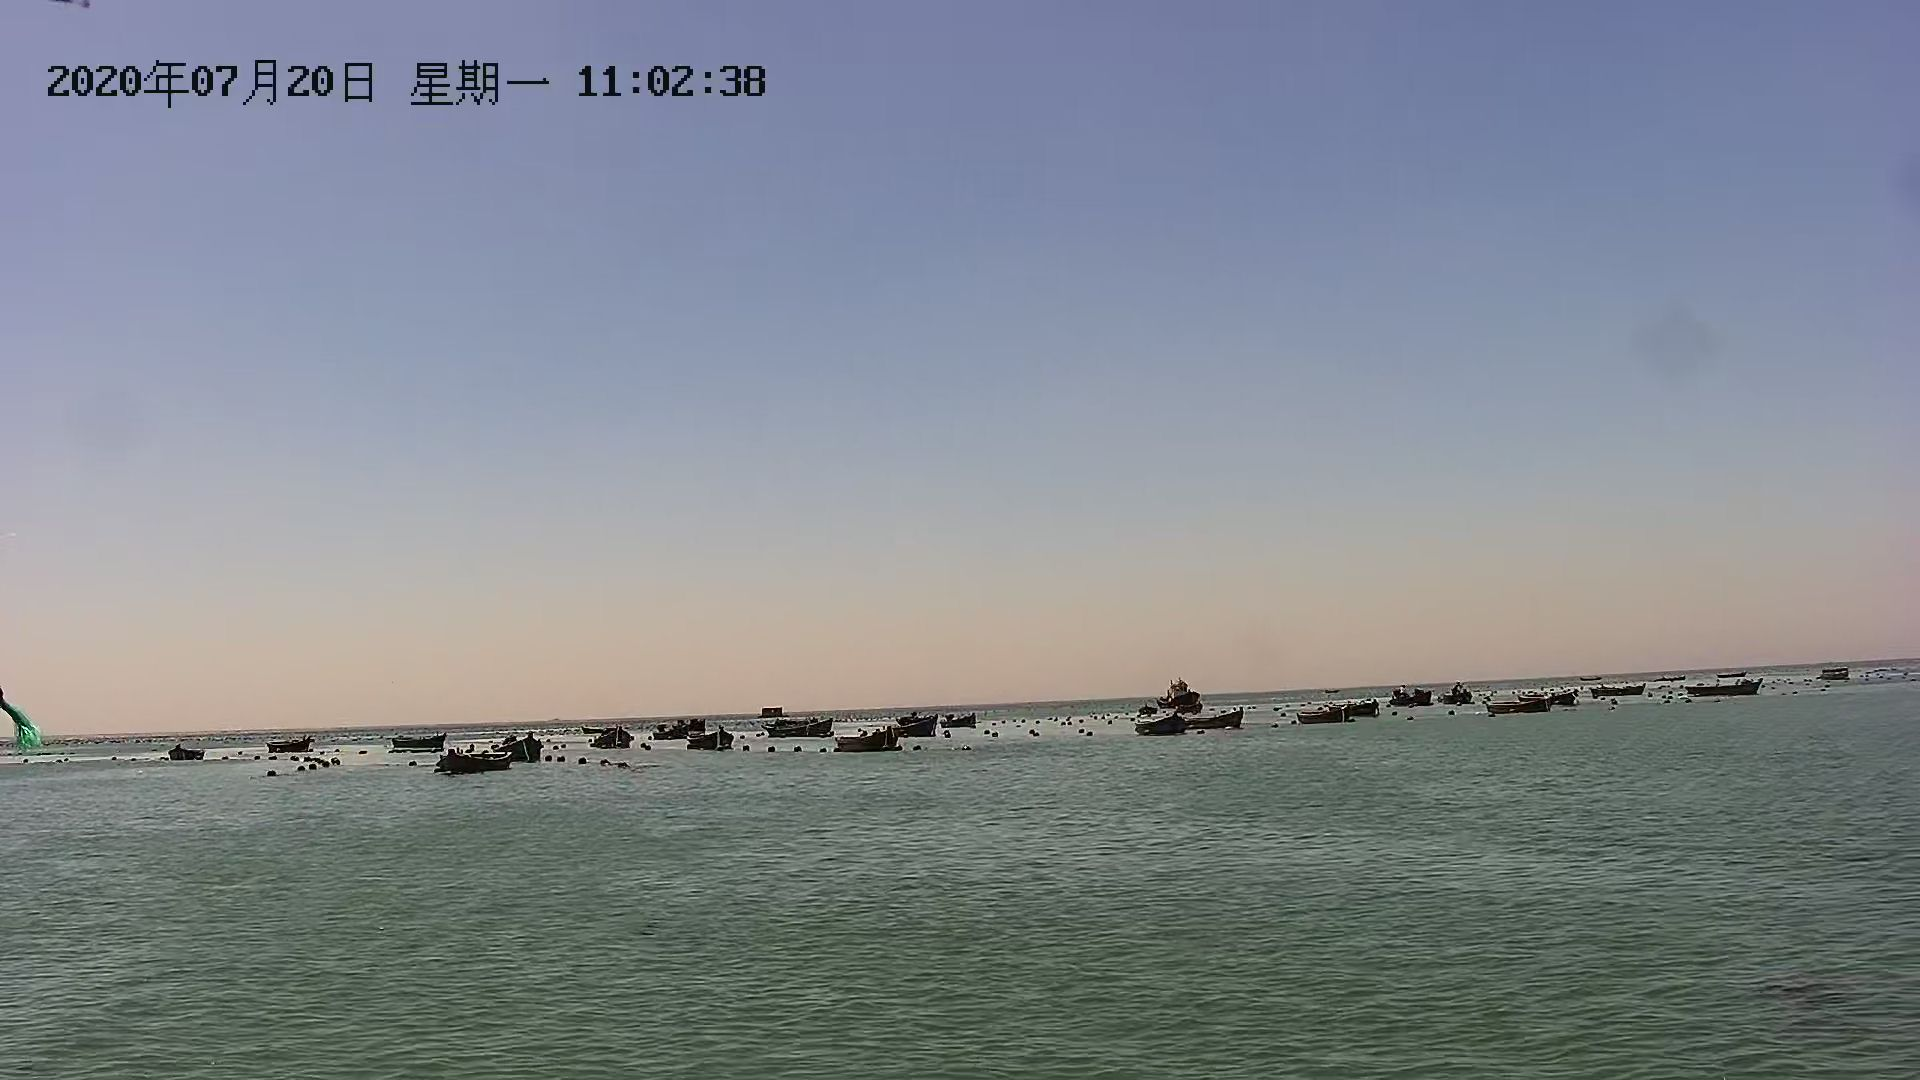boat: (431, 748, 516, 777), (835, 727, 905, 756), (1287, 702, 1357, 729), (1476, 694, 1555, 717), (258, 735, 330, 758), (1124, 715, 1189, 738), (1683, 680, 1767, 699), (1188, 709, 1247, 735), (764, 717, 837, 737), (1386, 683, 1437, 711), (382, 735, 452, 753), (688, 729, 733, 756), (164, 744, 207, 767), (585, 731, 636, 750), (1588, 683, 1648, 698), (1818, 663, 1857, 684), (938, 713, 981, 731)
ship: (1153, 679, 1207, 712)
